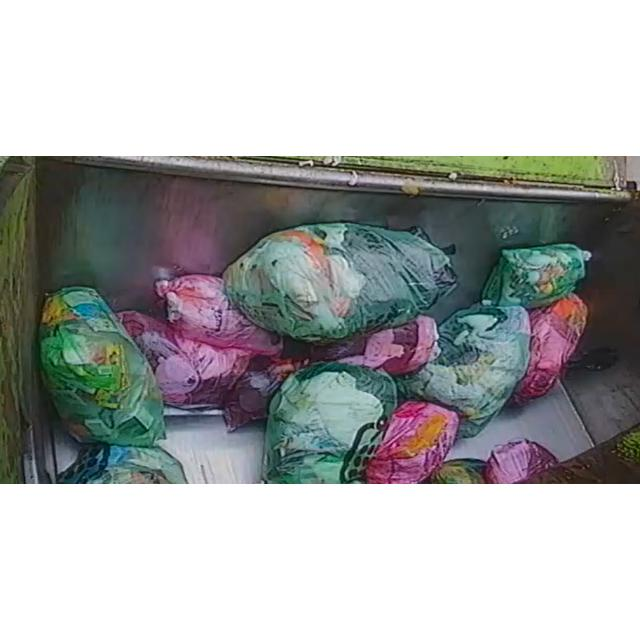general_trashbag: (222, 224, 458, 342), (39, 287, 164, 447), (396, 304, 530, 437), (265, 364, 396, 484), (482, 244, 587, 308), (58, 445, 186, 485)
other_trashbag: (118, 311, 252, 406), (155, 275, 282, 355), (512, 295, 588, 403), (366, 402, 459, 485), (310, 316, 439, 375), (225, 361, 304, 430), (485, 440, 559, 485)
